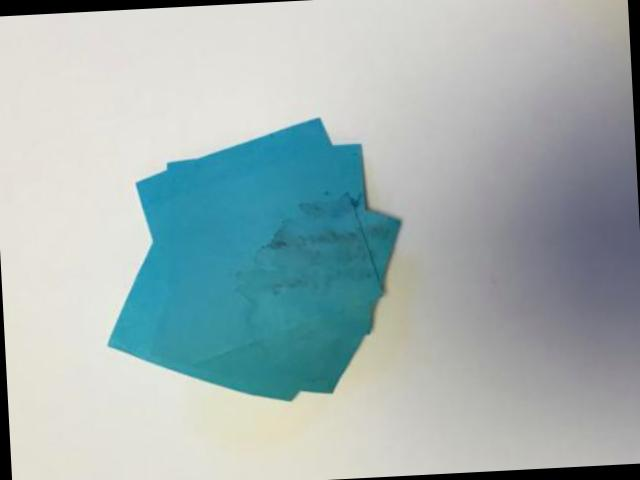cardboard paper: (108, 118, 398, 398)
